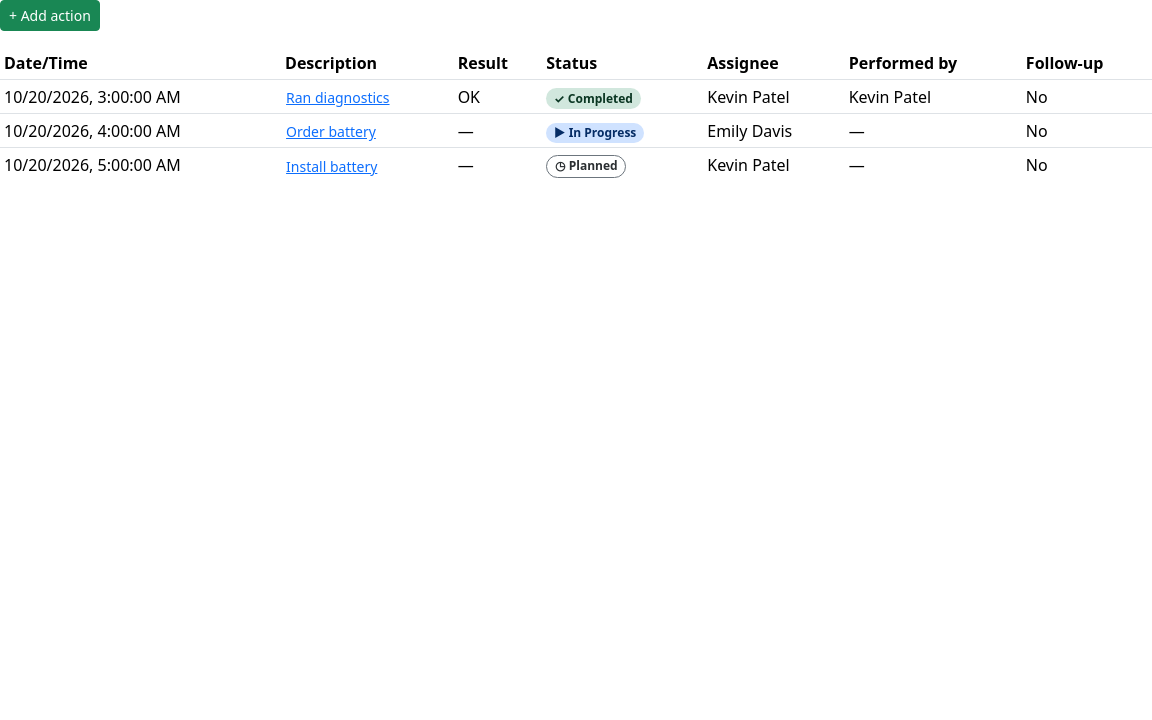
ActionsTaken panel › shows server field errors (422) under the right field
The width and height of the screenshot is (1152, 720).
Step 1. Click the button "+ Add action" → (50, 16), box [0,0,100,31]
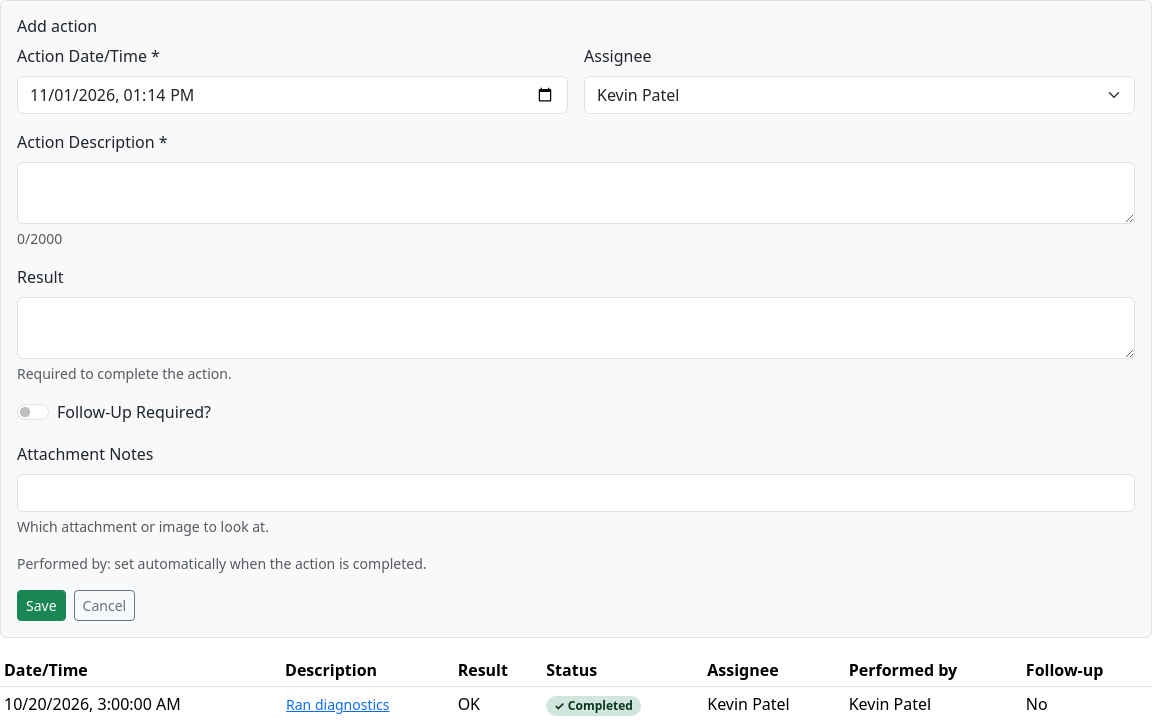
Step 2. Type "Something" into the text box labelled "Action Description *" → (576, 193), box [17,162,1135,224]
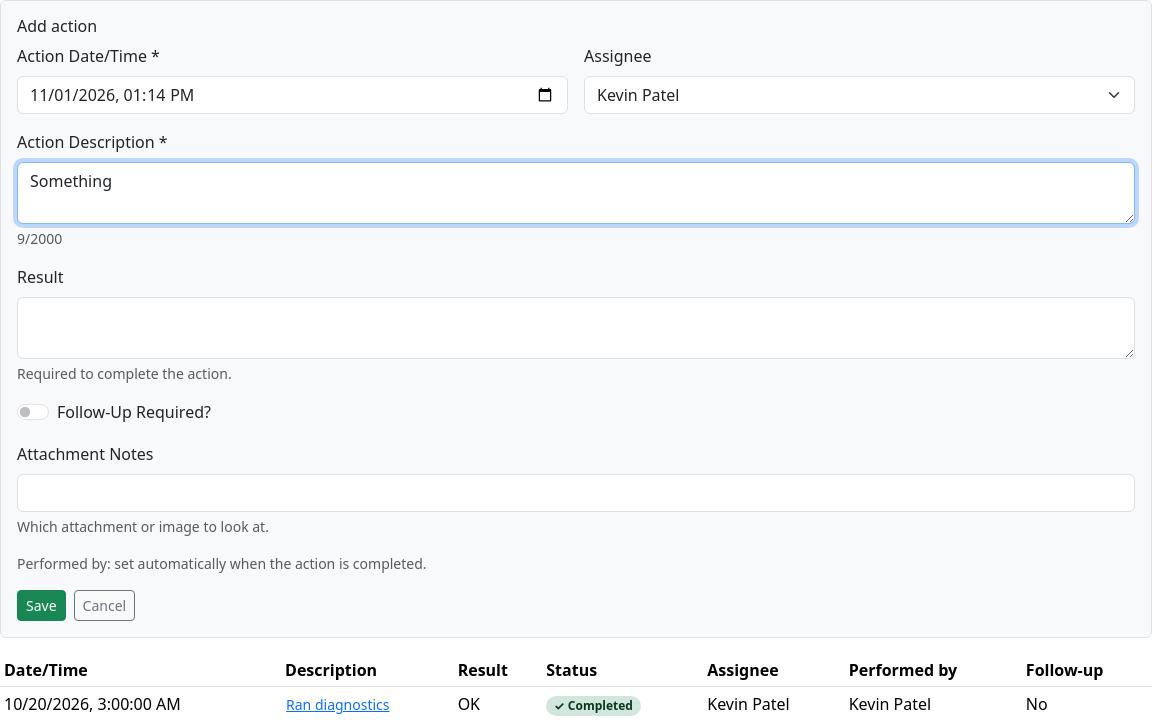
Step 3. Click the button "Save" → (41, 606), box [17,590,66,621]
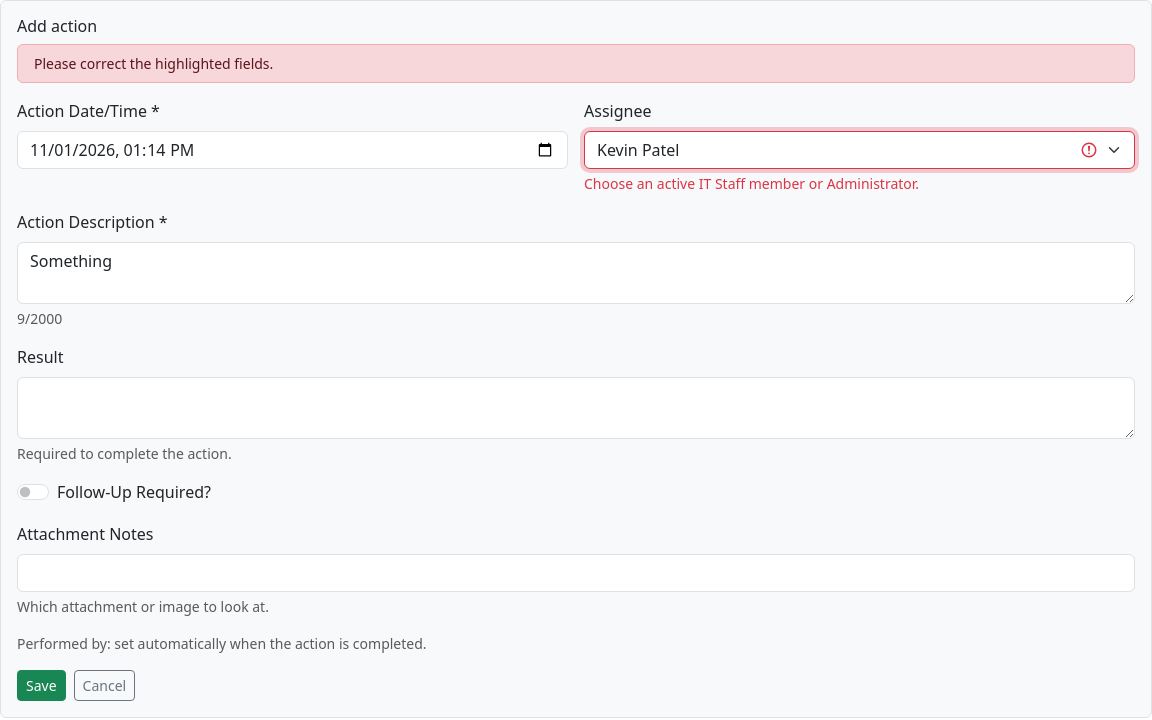
Check: the text "Choose an active IT Staff member or Administrator." is shown, box [584,174,919,193]
